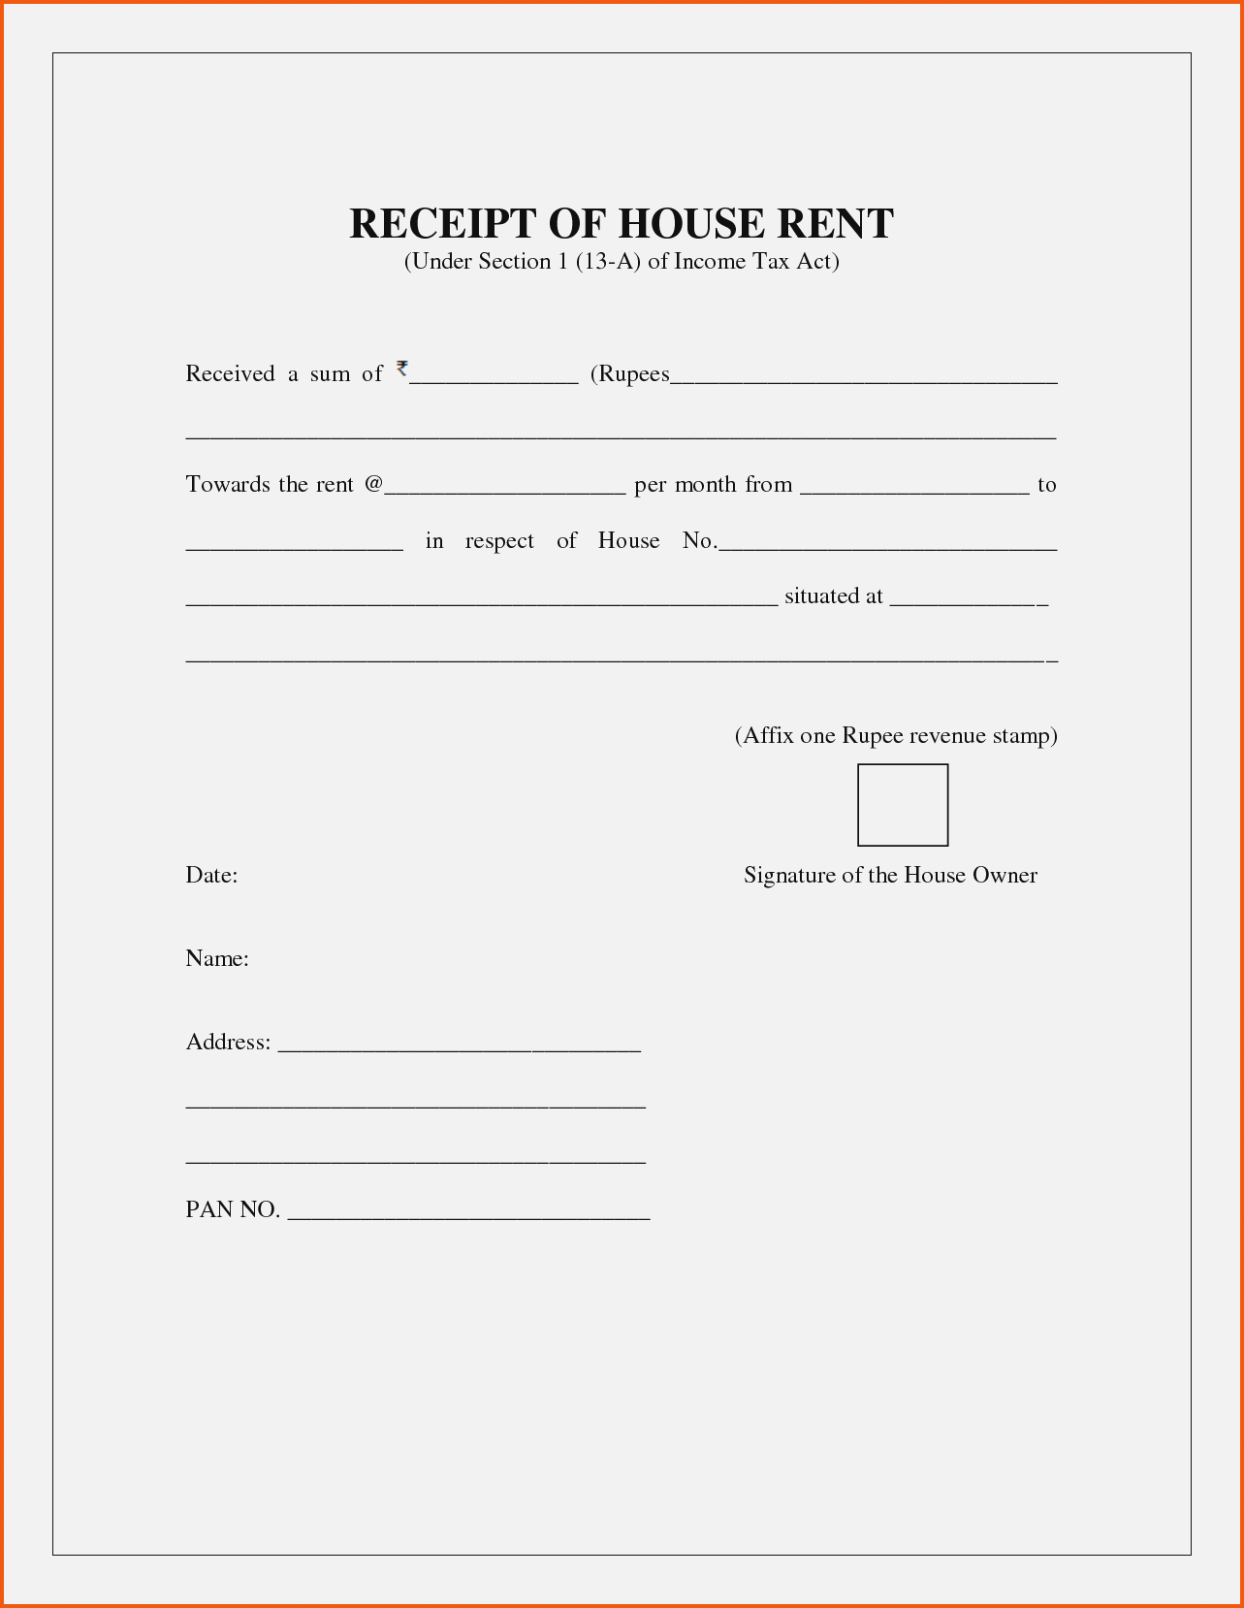textbox: (854, 752, 952, 854)
textline: (178, 625, 1066, 675), (184, 409, 1066, 450), (184, 576, 781, 613), (286, 1183, 662, 1240), (181, 1077, 651, 1119), (176, 1136, 651, 1175), (274, 1015, 657, 1060), (679, 354, 1066, 395), (719, 514, 1059, 559), (799, 456, 1036, 510), (389, 457, 627, 509), (181, 519, 406, 557), (411, 348, 577, 397), (884, 580, 1051, 613)
